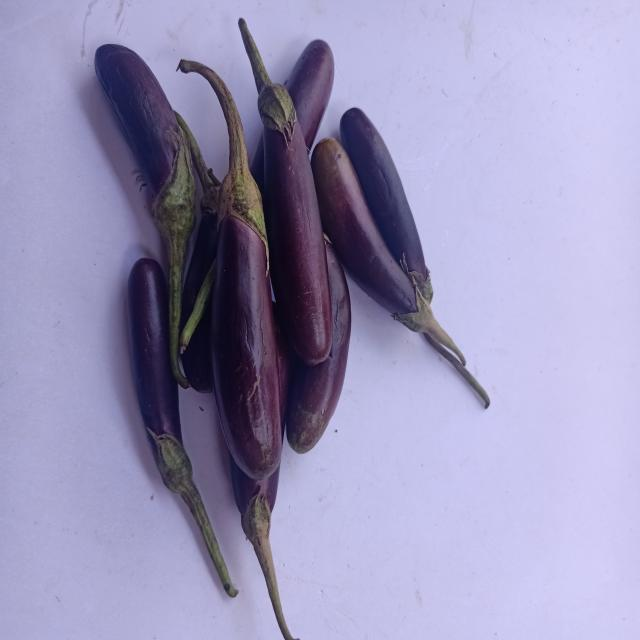Brinjal: (169, 59, 285, 487), (120, 250, 242, 608), (93, 38, 203, 398), (310, 136, 470, 375), (233, 8, 334, 367), (341, 104, 437, 309)
